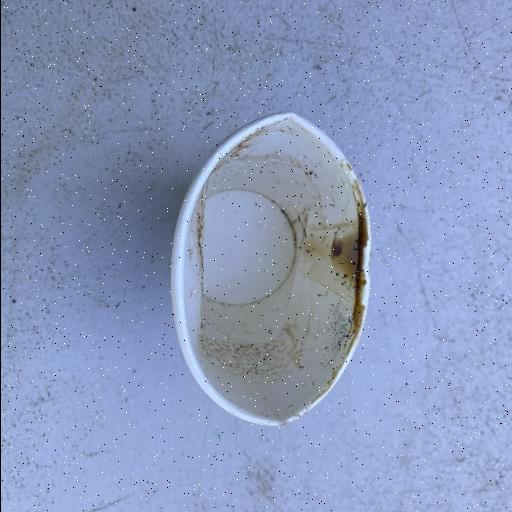Cardboard: (168, 110, 373, 428)
